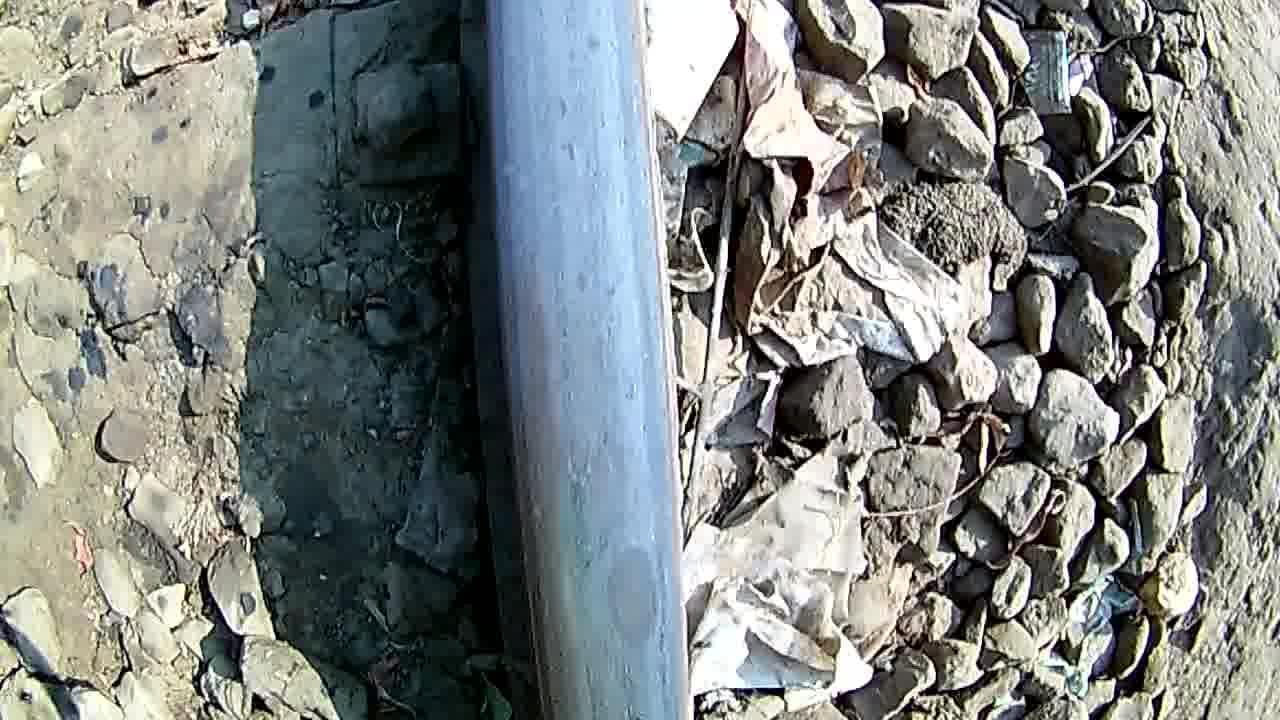crack: (490, 284, 699, 720)
